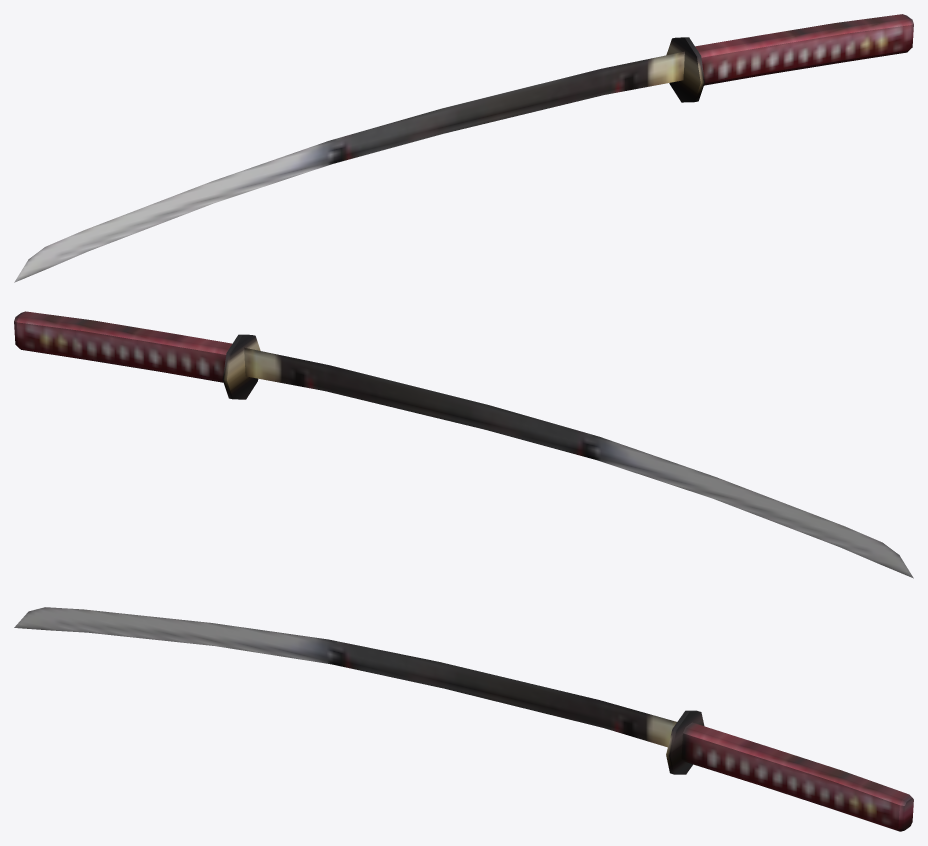
File: katana_3.FBX
3 renders of one model, top to bottom at view 1: azimuth 30°, elevation 25°; view 2: azimuth 150°, elevation 25°; view 3: azimuth 330°, elevation 25°, orthographic.
Parts seen in each view (by area): view 1: katana_3; view 2: katana_3; view 3: katana_3.
Boxes of the visible parts, bbox=[...] form: katana_3: bbox=[14, 14, 913, 282]; katana_3: bbox=[14, 311, 913, 578]; katana_3: bbox=[14, 607, 913, 831].
Bounding box in the file's own units: 116 × 9.9 × 7.85.
